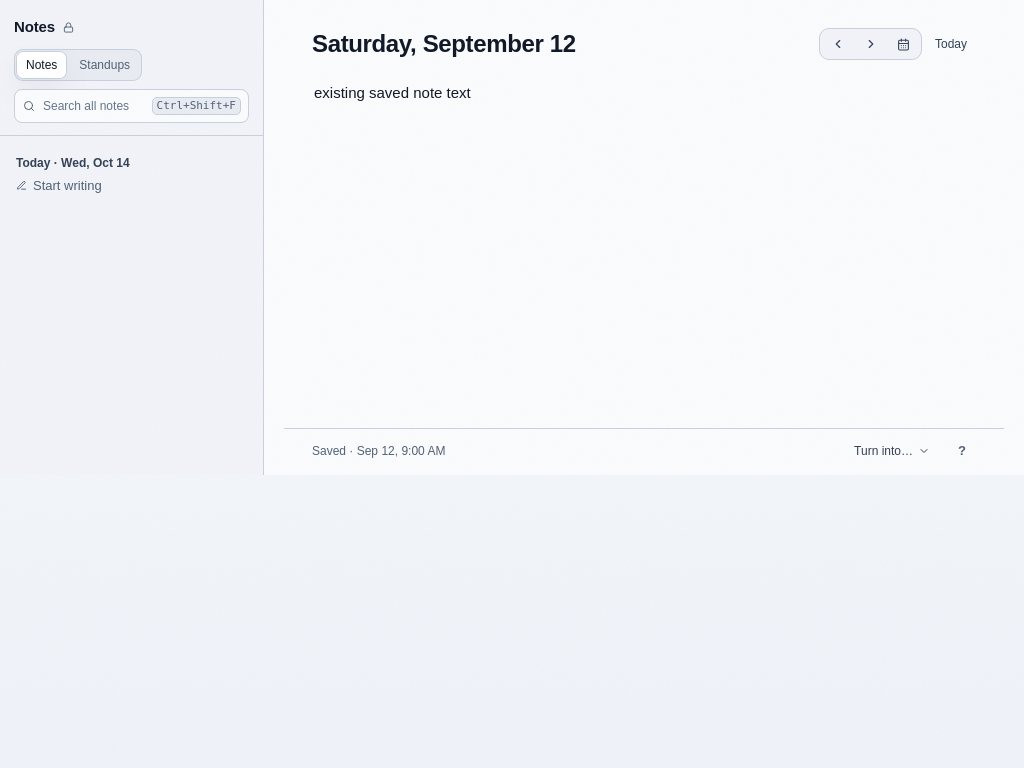
Test: NotesPage › opens the follow-up dialog only after a successful flush, labelled with its source
The image size is (1024, 768).
Click the button "Turn into…" at (892, 451), box [844,437,940,465]
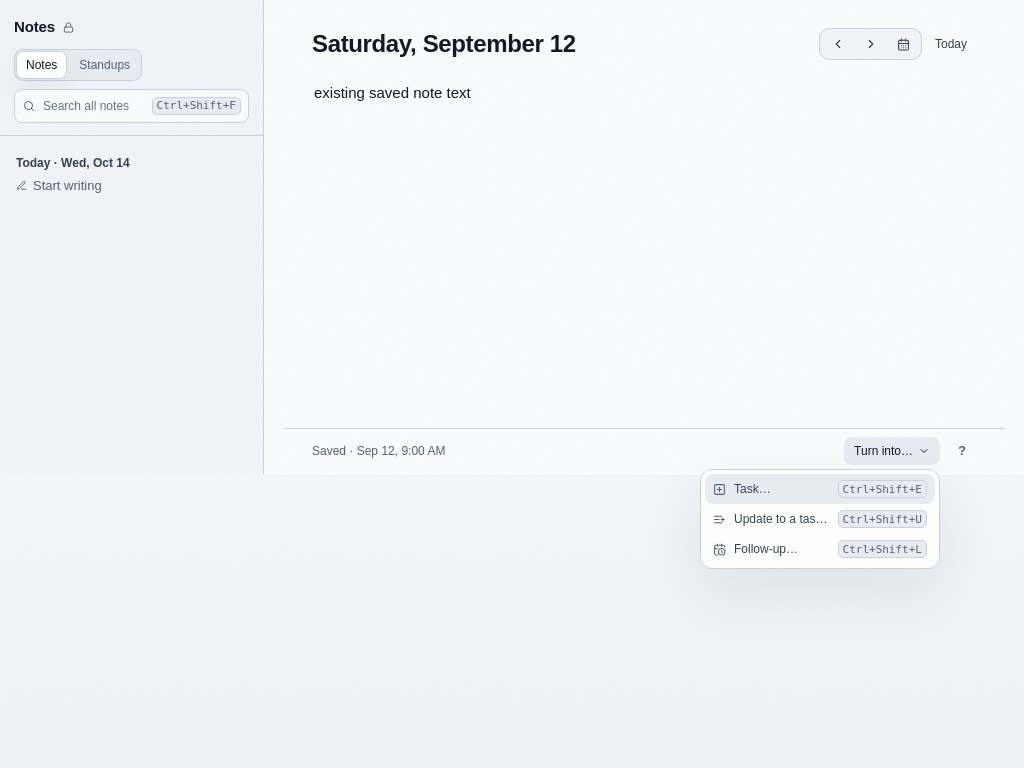
Click the menu item "Follow-up… Ctrl+Shift+L" at (820, 549), box [705,534,935,564]
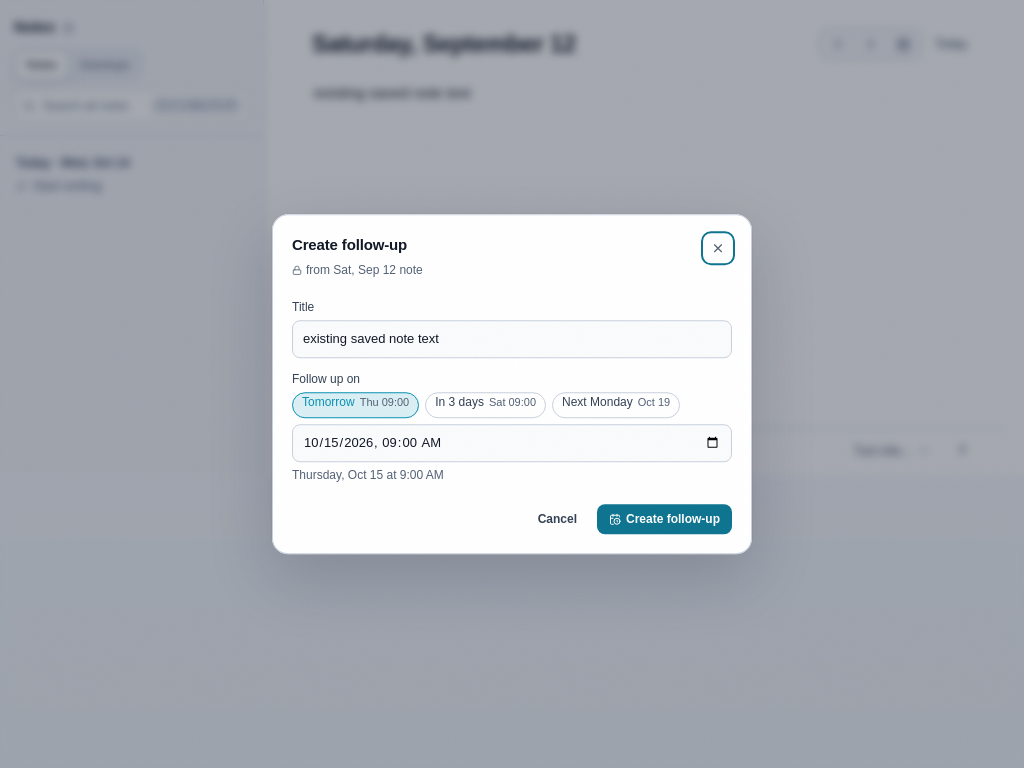
Result: the dialog "Create follow-up" is shown at [272,214,752,554]
Result: the text "from Sat, Sep 12 note" is shown at [292,261,423,279]
